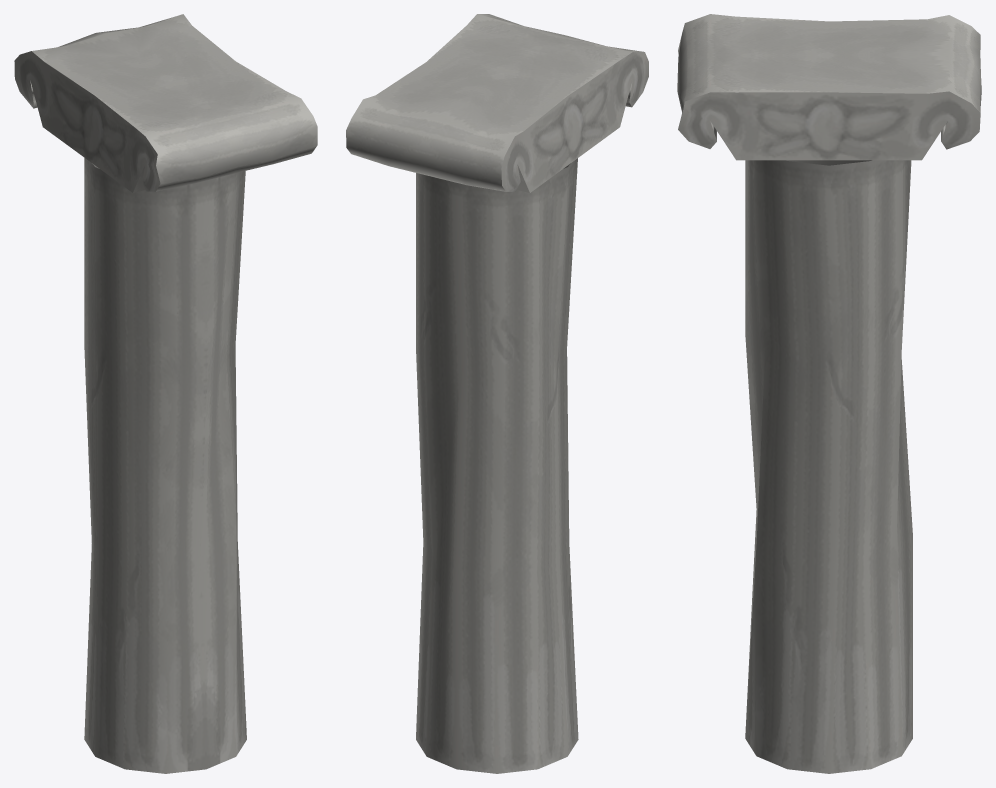
Rendered from MarblePillar02_Geo.fbx.
3 views of the same model, side by side, from view 1: azimuth 30°, elevation 25°; view 2: azimuth 150°, elevation 25°; view 3: azimuth 270°, elevation 25° (orthographic). The views are drawn at different scales.
Parts seen in each view (by area): view 1: MarblePillar02_Geo; view 2: MarblePillar02_Geo; view 3: MarblePillar02_Geo.
Boxes of the visible parts, x1=… form: MarblePillar02_Geo: x1=14, y1=14, x2=317, y2=773; MarblePillar02_Geo: x1=346, y1=14, x2=648, y2=773; MarblePillar02_Geo: x1=677, y1=14, x2=981, y2=773.
Bounding box in the file's own units: 30.11 × 118 × 47.67.
